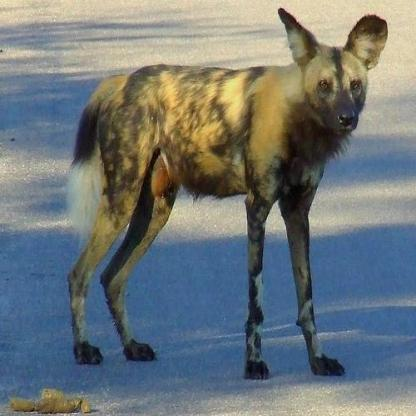African_hunting_dog: (58, 4, 390, 380)
